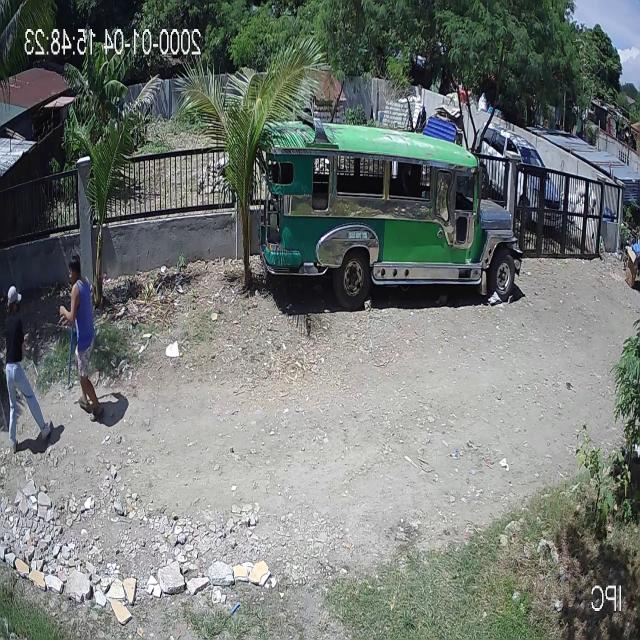running: (6, 286, 52, 452), (60, 256, 105, 423)
